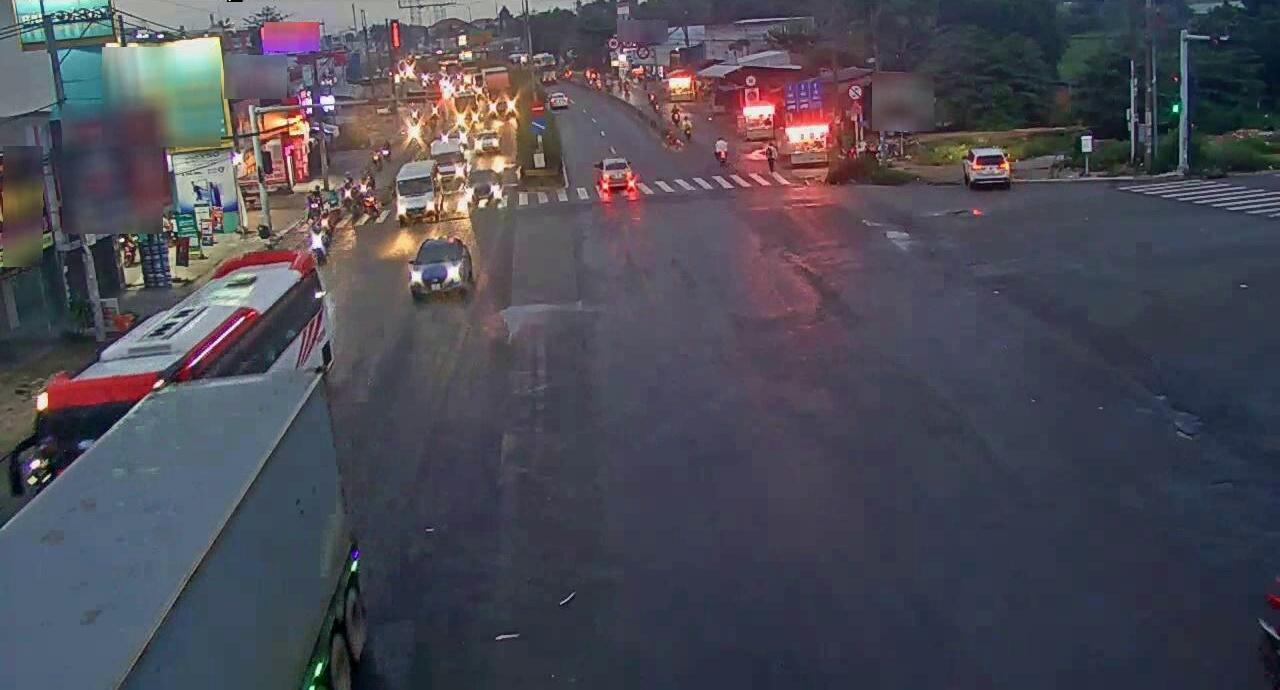xe buyt: (12, 251, 329, 508)
xe container: (0, 276, 408, 688)
xe hoi: (411, 232, 470, 298), (590, 149, 642, 203)
